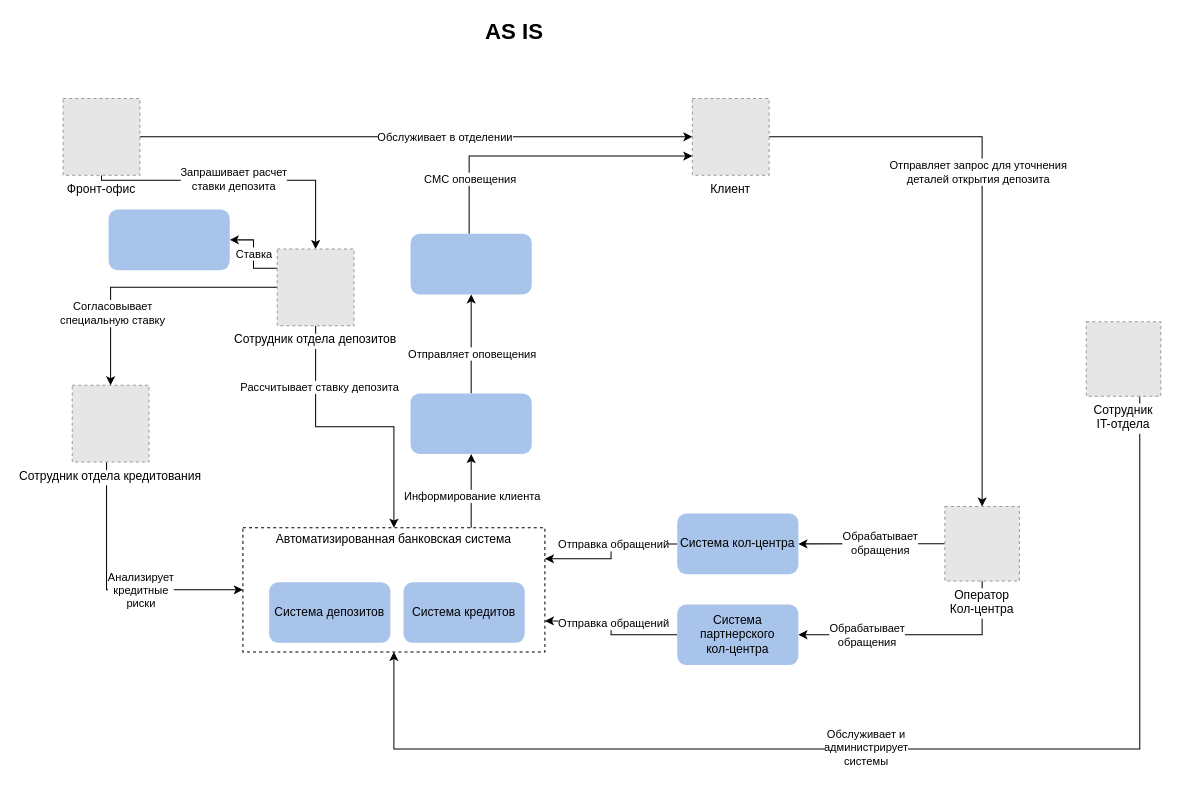
Some shapes in this 1179 by 786 pixel diagram are drawn without their labels. Grey dashed boxes stand in for pictures. The shapes that lost their labels are listed below. From the top down, each one's centre as x and y in pixels, then its label:
At point (168, 239): "Excel".
At point (470, 263): "Телеком оператор".
At point (470, 423): "СМС-шлюз".
